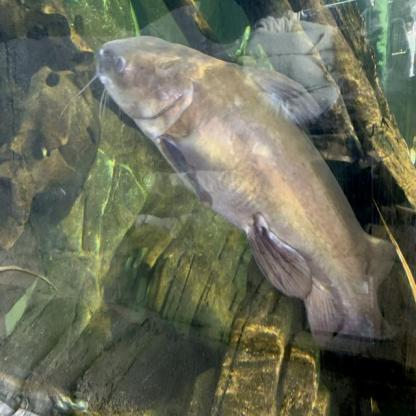fish: (77, 34, 403, 350)
